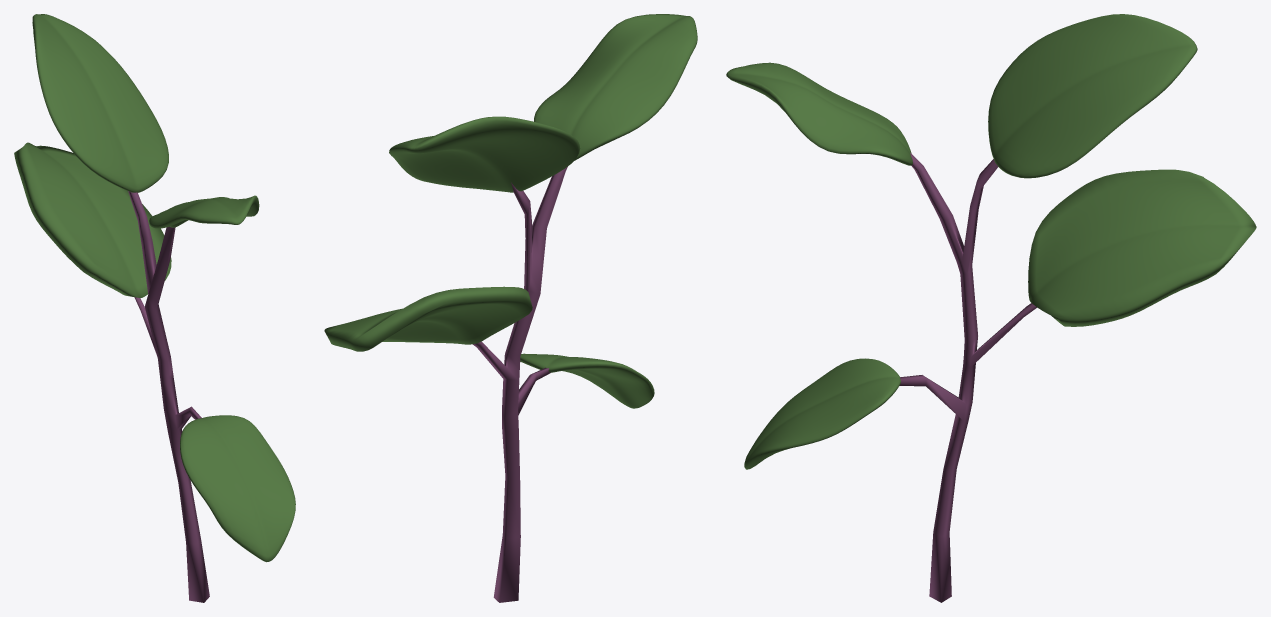
Rendered from eggplant_1.fbx.
3 views of the same model, side by side, from view 1: azimuth 30°, elevation 25°; view 2: azimuth 150°, elevation 25°; view 3: azimuth 270°, elevation 25° (orthographic). The views are drawn at different scales.
Visible parts, largest first — view 1: Plane.001; view 2: Plane.001; view 3: Plane.001.
Boxes of the visible parts, x1=… form: Plane.001: x1=14, y1=14, x2=295, y2=602; Plane.001: x1=324, y1=14, x2=697, y2=602; Plane.001: x1=726, y1=14, x2=1256, y2=602.
Bounding box in the file's own units: 13.82 × 45.01 × 39.63.
